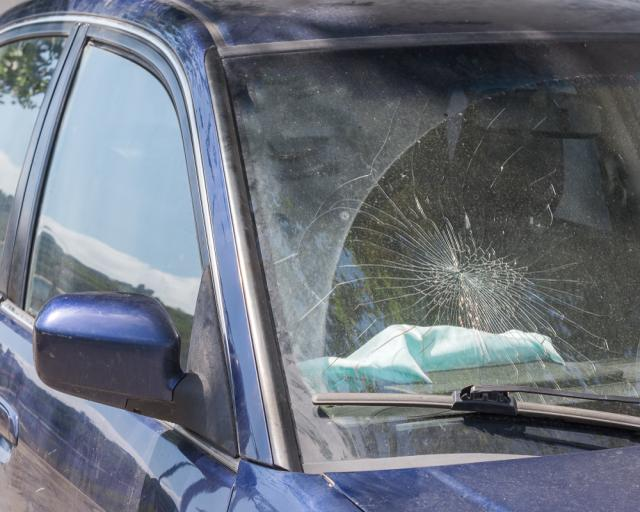glass shatter: (237, 40, 640, 430)
